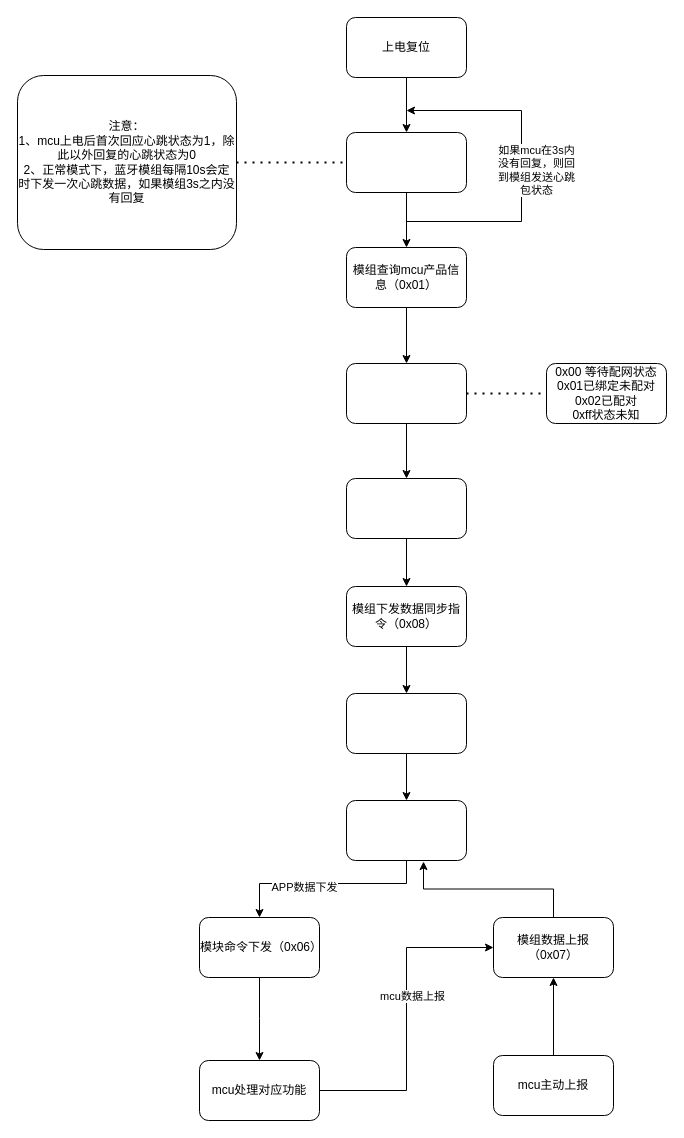
Some shapes in this 684 by 1138 pixel diagram are drawn without their labels. Each missing label, with the centre of its shape:
mcu上报当前状态指令（0x07）: pixel 406 723
初始化完成模组正常工作: pixel 406 830
模组发送工作状态（0x03）: pixel 406 508
模组发送心跳（0x00）: pixel 406 162
模组获取mcu工作方式（0x02）: pixel 406 393
